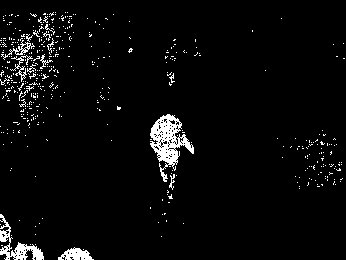person: (150, 113, 195, 199)
